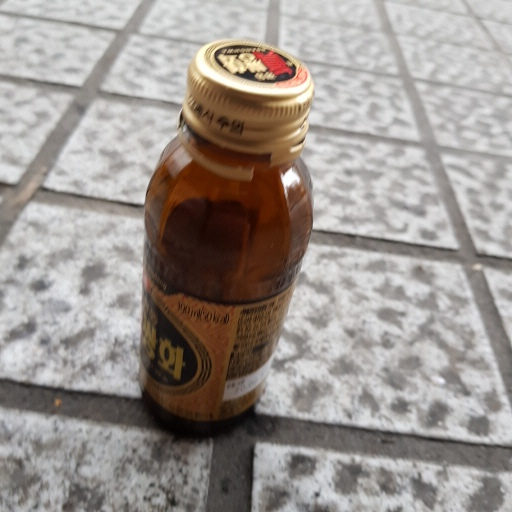Glass_3: (133, 38, 316, 434)
